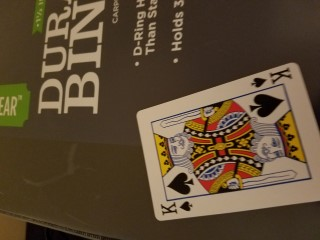KingOfSpades: (135, 61, 320, 222)
